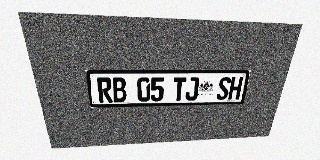0: (137, 77, 150, 102)
5: (151, 77, 164, 101)
B: (112, 77, 127, 102)
H: (228, 77, 243, 100)
J: (185, 77, 199, 101)
R: (97, 77, 113, 103)
S: (216, 77, 231, 100)
T: (172, 77, 186, 101)
